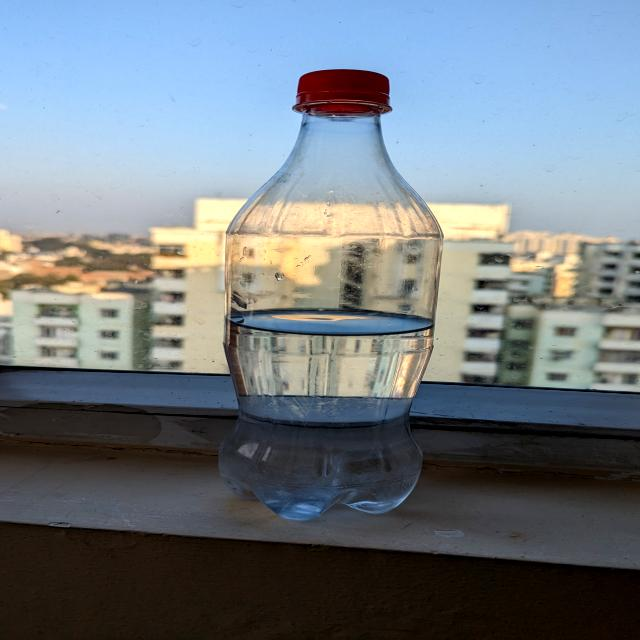half-bottle: (226, 70, 445, 519)
